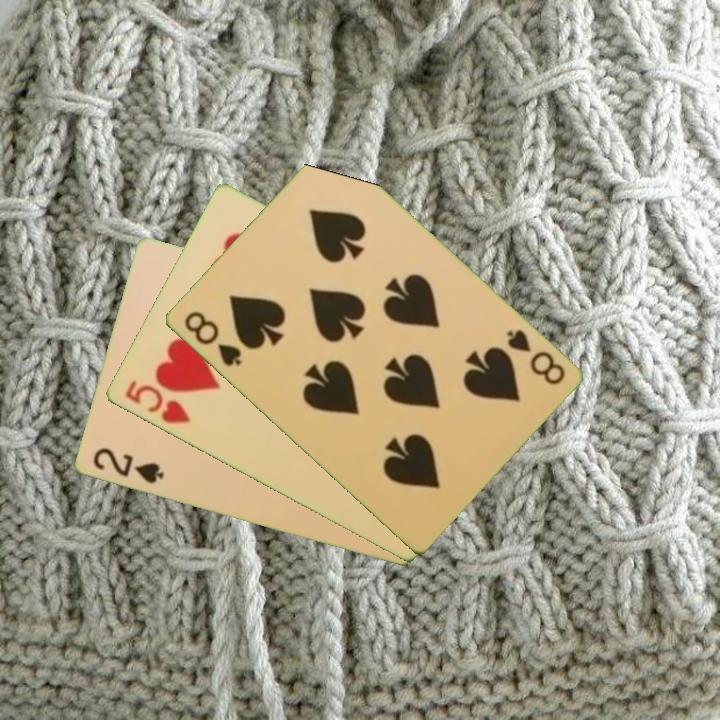2s: (89, 444, 167, 487)
5h: (121, 377, 193, 427)
8s: (503, 326, 568, 388), (180, 307, 244, 369)
